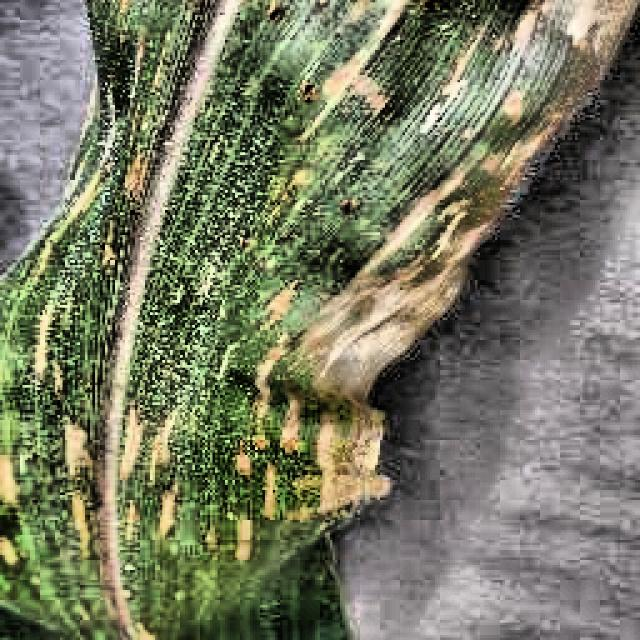gray_spot: (4, 2, 618, 640)
